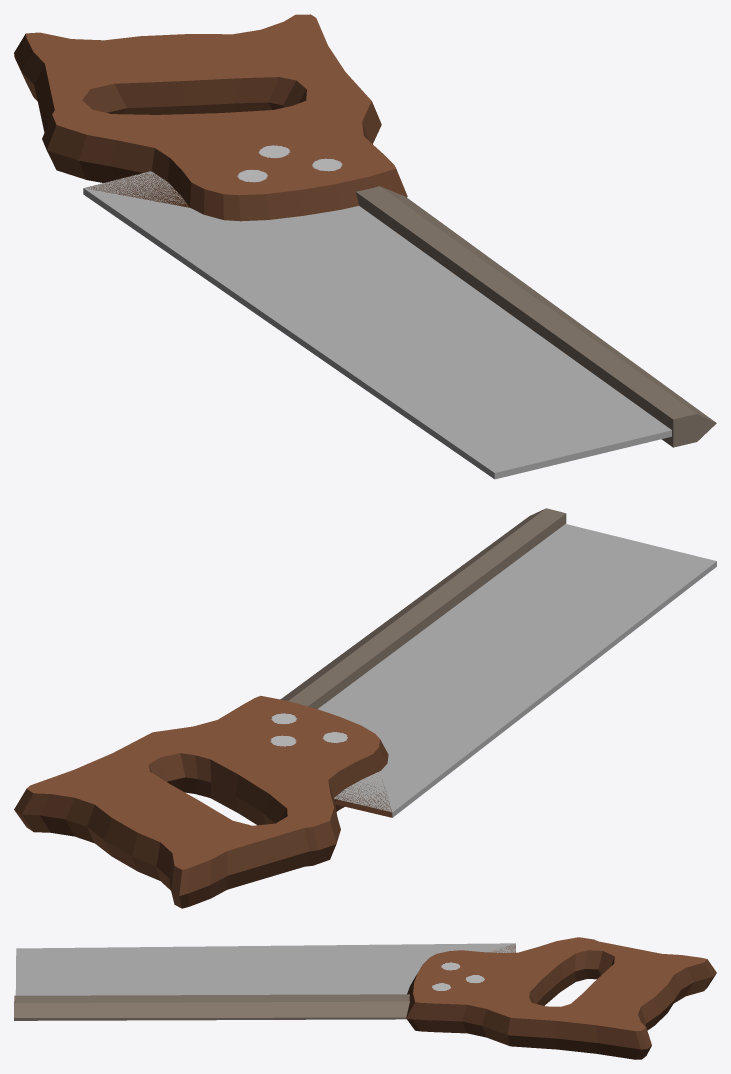
The model's file is WorldItem_BackSaw.fbx.
3 renders of one model, top to bottom at view 1: azimuth 30°, elevation 25°; view 2: azimuth 150°, elevation 25°; view 3: azimuth 270°, elevation 25°, orthographic. The views are drawn at different scales.
Parts seen in each view (by area): view 1: ZomboidBackSaw; view 2: ZomboidBackSaw; view 3: ZomboidBackSaw.
Boxes of the visible parts, left/top/right/bottom form: ZomboidBackSaw: left=14, top=14, right=716, bottom=479; ZomboidBackSaw: left=14, top=508, right=716, bottom=908; ZomboidBackSaw: left=14, top=937, right=716, bottom=1059.
Bounding box in the file's own units: 0.1043 × 0.0133 × 0.2969.
